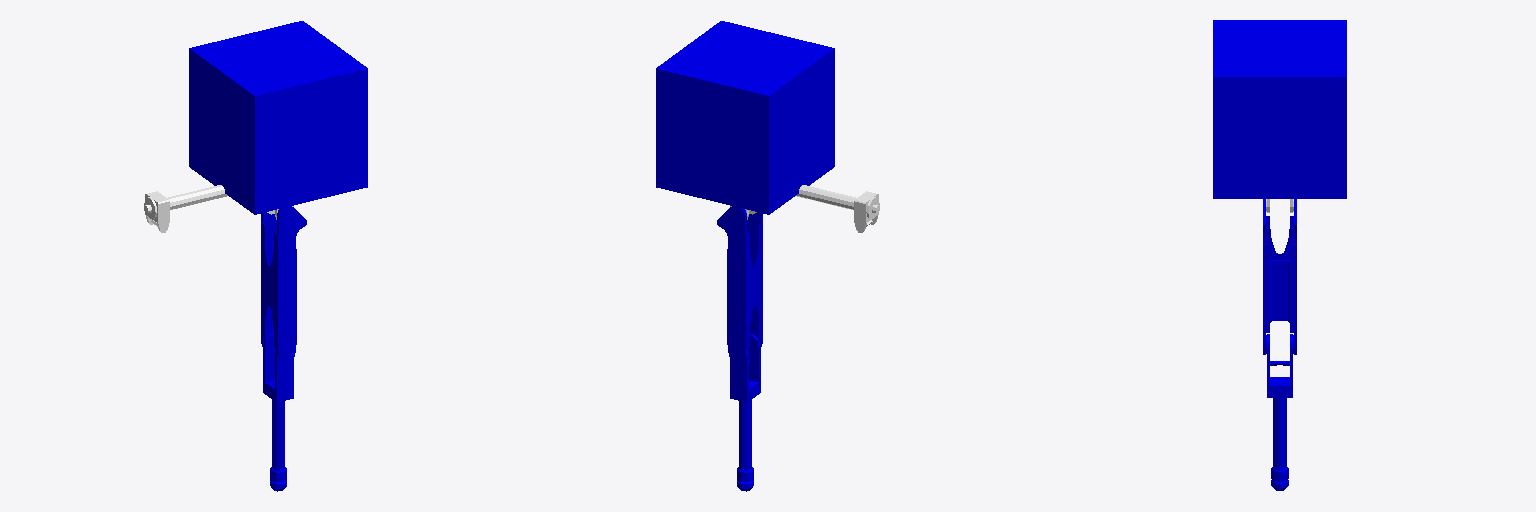
The robot description file, URDF, robot "monoped":
<robot name="monoped">
    <link name="base">
	    <visual>
	      <geometry>
	        <box size="0.30 0.30 0.30"/>
	      </geometry>
	      <material name="blue">
	        <color rgba="0 0 1 1"/>
	      </material>
	    </visual>        
    </link>
    
    <link name="hipassembly">
	    <visual>
	      <origin rpy="0.0 0.0 0.0" xyz="0.0 0.0 0.0"/>
	      <geometry>
	        <mesh filename="package://monoped_description/meshes/leg/hip.dae" scale="1 1 1"/>
	      </geometry>
	      <material name="white"/>
	    </visual>        
    </link>
    <link name="upperleg">
	    <visual>
	      <origin rpy="0.0 0.0 0.0" xyz="0.0 0.0 0.0"/>
	      <geometry>
	        <mesh filename="package://monoped_description/meshes/leg/upper.dae" scale="1 1 1"/>
	      </geometry>
	      <material name="blue"/>
	    </visual>
    </link>
    <link name="lowerleg">
	    <visual>
	      <geometry>
	        <mesh filename="package://monoped_description/meshes/leg/lower.dae" scale="1 1 1"/>
	      </geometry>
	      <material name="blue"/>
	    </visual>        
    </link>
    
    <joint name="haa_joint" type="revolute">
        <origin xyz="0.0 0.0 -0.15000" rpy="2.0344439357957036 1.5707962290814481 -1.1071487177940917"/>
        <parent link="base"/>
        <child  link="hipassembly"/>
        <limit effort="200" lower="-1.6" upper="1.6" velocity="1.0"/>
        <axis xyz="0 0 1"/>
    </joint>
    <joint name="hfe_joint" type="revolute">
        <origin xyz="0.08000 0.00000 0.00000" rpy="1.5707963705062866 -0.0 0.0"/>
        <parent link="hipassembly"/>
        <child  link="upperleg"/>
        <limit effort="200" lower="-1.6" upper="1.6" velocity="1.0"/>
        <axis xyz="0 0 1"/>
    </joint>
    <joint name="kfe_joint" type="revolute">
        <origin xyz="0.35000 0.00000 0.00000" rpy="0.0 0.0 0.0"/>
        <parent link="upperleg"/>
        <child  link="lowerleg"/>
        <limit effort="200" lower="-1.6" upper="1.6" velocity="1.0"/>
        <axis xyz="0 0 1"/>
    </joint>
</robot>

--- What the picture shows (computed from the rendered views, not written in the file) ---
The picture shows the robot from 3 angles, left to right: view 1: azimuth 30°, elevation 25°; view 2: azimuth 150°, elevation 25°; view 3: azimuth 270°, elevation 25°; orthographic projection.
Model monoped with 4 links and 3 joints (3 revolute), rooted at base, posed every joint at zero.
Visible links, largest first — view 1: base, upperleg, lowerleg, hipassembly; view 2: base, upperleg, lowerleg, hipassembly; view 3: base, upperleg, lowerleg.
Boxes of the visible links, x1,y1,x2,y2 form: base: [189, 21, 367, 214]; upperleg: [261, 206, 306, 362]; lowerleg: [263, 334, 293, 491]; hipassembly: [144, 185, 293, 232]; base: [656, 21, 834, 214]; upperleg: [717, 206, 762, 362]; lowerleg: [730, 334, 760, 491]; hipassembly: [730, 185, 879, 232]; base: [1213, 20, 1346, 198]; upperleg: [1263, 199, 1296, 354]; lowerleg: [1266, 334, 1293, 490].
Bounding box of the posed robot: 0.5008 × 0.3 × 1.09 m (x, y, z).
Meshes: 3 distinct files referenced, 3 mesh visuals loaded (3 Collada DAE).